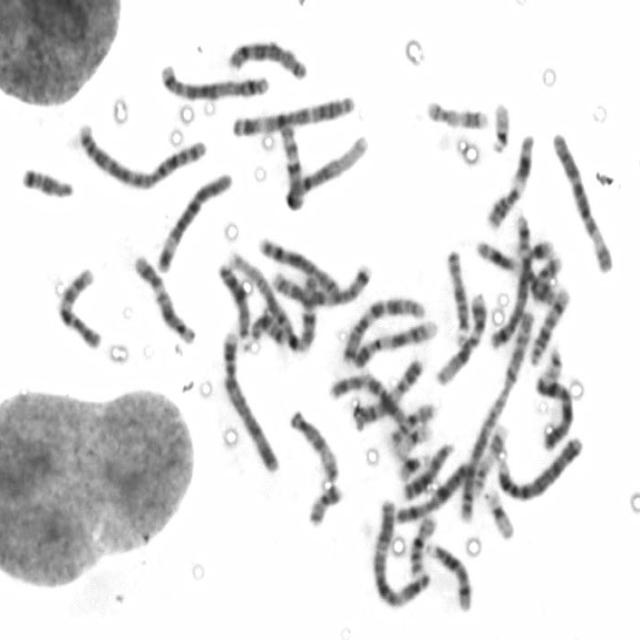A1: (221, 247, 320, 353), (281, 128, 370, 210)
A2: (455, 299, 537, 522), (74, 117, 208, 191)
A3: (368, 492, 433, 611), (228, 90, 356, 138)
B4: (218, 324, 281, 474), (492, 431, 584, 502)
B5: (486, 215, 536, 352), (156, 60, 268, 101)
C10: (54, 262, 104, 352), (328, 372, 402, 423)
C11: (474, 237, 557, 306), (482, 129, 536, 232)
C12: (130, 251, 197, 346), (432, 289, 488, 387)
C6: (550, 128, 616, 275), (153, 168, 234, 274)
C7: (341, 292, 428, 368), (274, 265, 373, 309)
C8: (352, 356, 423, 432), (224, 36, 309, 81)
C9: (257, 237, 342, 300), (350, 315, 438, 368)
D13: (398, 438, 455, 503), (215, 259, 251, 342)
D14: (422, 538, 473, 614), (527, 285, 571, 368)
D15: (286, 406, 340, 484), (442, 246, 470, 335)
E16: (385, 400, 436, 450), (405, 512, 438, 576)
E17: (468, 420, 508, 499), (424, 96, 489, 131)
E18: (18, 163, 74, 200), (248, 306, 286, 346)
F19: (481, 486, 515, 540), (388, 421, 434, 452)
F20: (304, 480, 344, 528), (530, 254, 565, 308)
G21: (394, 449, 429, 482), (526, 236, 556, 262)
G22: (489, 98, 512, 156), (539, 343, 563, 381)
X: (394, 458, 484, 525), (532, 373, 574, 452)
